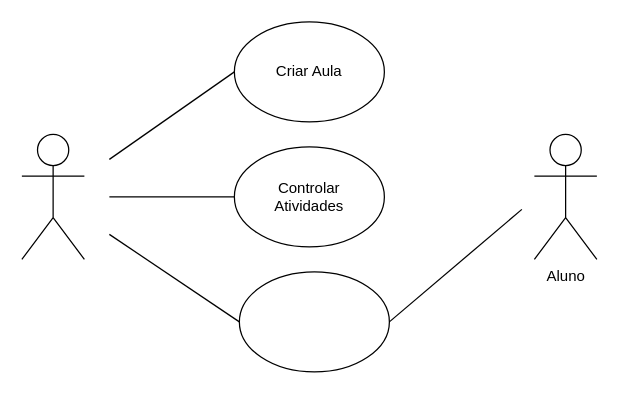
This 619x394 diagram has some shape labels left out. Each missing label, with the centre of its shape:
Controlar Notas: [313,321]
Professor: [52,196]
